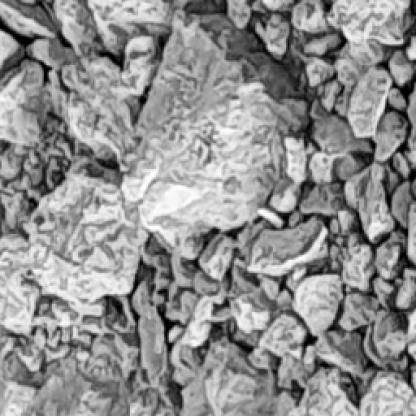cementitious_debris: (1, 0, 414, 414)
